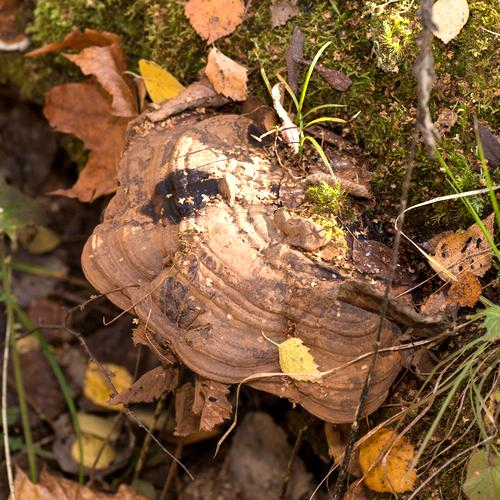Ganoderma - Fruit Body: (84, 108, 408, 426)
